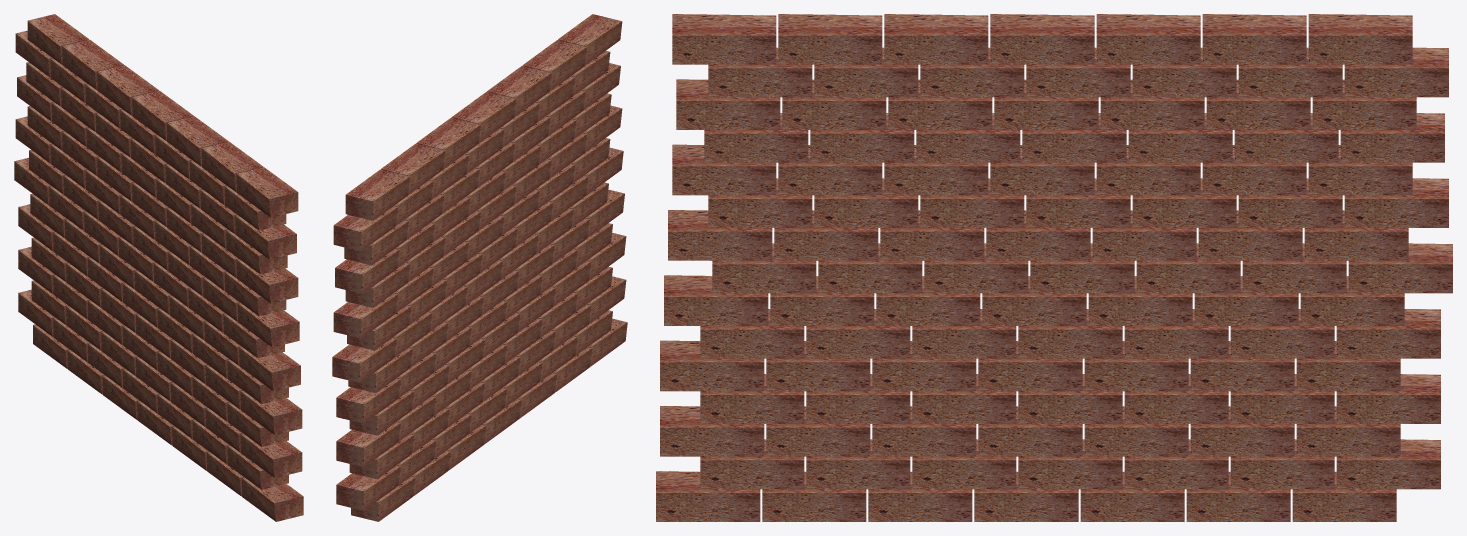
Rendered from wall.obj.
3 renders of one model, left to right at view 1: azimuth 30°, elevation 25°; view 2: azimuth 150°, elevation 25°; view 3: azimuth 270°, elevation 25°, orthographic. The views are drawn at different scales.
Parts seen in each view (by area): view 1: Cube.183_Cube.076, Cube.103_Cube.044, Cube.003_Cube.002, Cube.083_Cube.036, Cube.063_Cube.028, Cube.123_Cube.052, Cube.188_Cube.076, Cube.187_Cube.076, Cube.189_Cube.076, Cube.186_Cube.076, Cube.143_Cube.060, Cube.184_Cube.076 (+93 smaller); view 2: Cube.189_Cube.076, Cube.110_Cube.045, Cube.070_Cube.029, Cube.010_Cube.004, Cube.170_Cube.069, Cube.130_Cube.053, Cube.090_Cube.037, Cube.188_Cube.076, Cube.186_Cube.076, Cube.185_Cube.076, Cube.183_Cube.076, Cube.187_Cube.076 (+93 smaller); view 3: Cube.189_Cube.076, Cube.188_Cube.076, Cube.187_Cube.076, Cube.186_Cube.076, Cube.185_Cube.076, Cube.184_Cube.076, Cube.183_Cube.076, Cube.103_Cube.044, Cube.110_Cube.045, Cube.083_Cube.036, Cube.003_Cube.002, Cube.010_Cube.004 (+93 smaller).
Part boxes in pixels (x1,y1,x2,y2): Cube.183_Cube.076: (236, 167, 298, 217); Cube.103_Cube.044: (239, 346, 300, 391); Cube.003_Cube.002: (242, 477, 303, 521); Cube.083_Cube.036: (240, 390, 302, 434); Cube.063_Cube.028: (240, 433, 302, 477); Cube.123_Cube.052: (238, 303, 299, 347); Cube.188_Cube.076: (62, 39, 123, 89); Cube.187_Cube.076: (97, 65, 158, 115); Cube.189_Cube.076: (27, 14, 88, 64); Cube.186_Cube.076: (132, 90, 193, 141); Cube.143_Cube.060: (236, 259, 298, 303); Cube.184_Cube.076: (202, 141, 263, 192); Cube.189_Cube.076: (345, 169, 409, 220); Cube.110_Cube.045: (332, 338, 396, 382); Cube.070_Cube.029: (336, 422, 400, 467); Cube.010_Cube.004: (336, 465, 400, 510); Cube.170_Cube.069: (333, 206, 397, 251); Cube.130_Cube.053: (333, 293, 397, 338); Cube.090_Cube.037: (336, 378, 400, 423); Cube.188_Cube.076: (381, 143, 445, 194); Cube.186_Cube.076: (451, 91, 516, 143); Cube.185_Cube.076: (487, 66, 551, 117); Cube.183_Cube.076: (558, 14, 622, 65); Cube.187_Cube.076: (416, 117, 480, 168); Cube.189_Cube.076: (1308, 14, 1412, 64); Cube.188_Cube.076: (1202, 14, 1306, 64); Cube.187_Cube.076: (1096, 14, 1200, 64); Cube.186_Cube.076: (990, 14, 1094, 64); Cube.185_Cube.076: (884, 14, 988, 64); Cube.184_Cube.076: (778, 14, 882, 64); Cube.183_Cube.076: (672, 14, 776, 64); Cube.103_Cube.044: (664, 275, 768, 325); Cube.110_Cube.045: (1348, 243, 1452, 293); Cube.083_Cube.036: (660, 340, 764, 391); Cube.003_Cube.002: (656, 471, 760, 521); Cube.010_Cube.004: (1336, 439, 1440, 489).
Bounding box in the file's own units: 0.1288 × 1.34 × 1.99.
